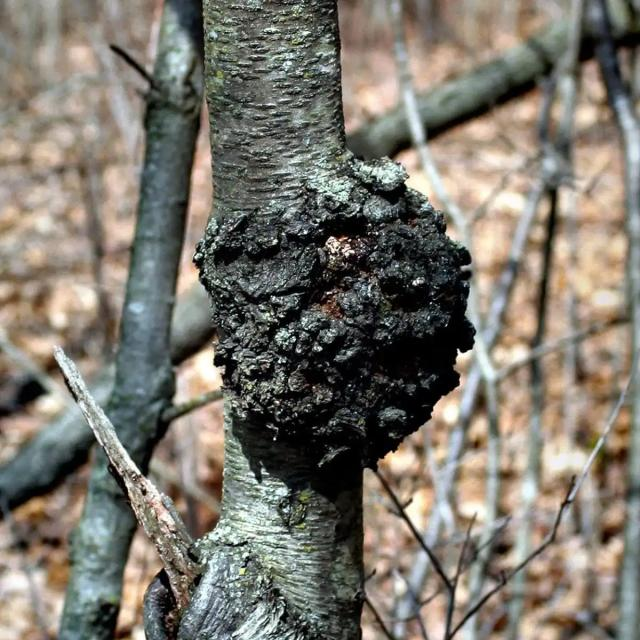Black_knot: (192, 152, 477, 485)
